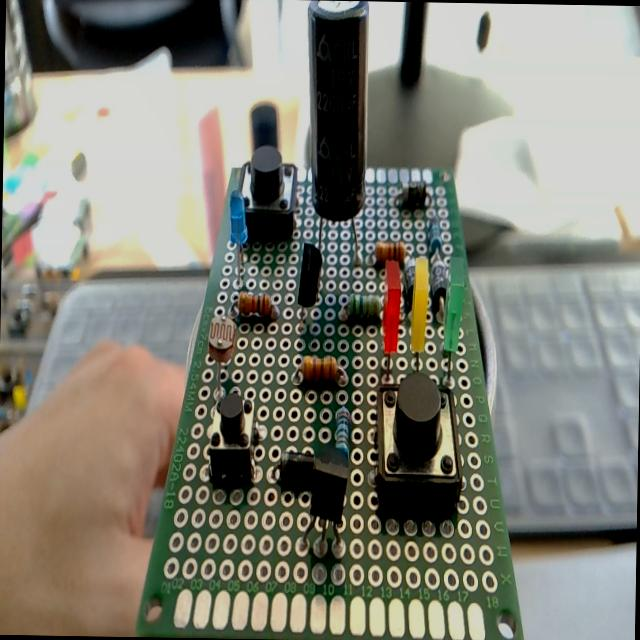Electrolytic capacitor: (298, 0, 374, 266)
cds: (208, 312, 238, 398)
diode: (268, 446, 314, 494)
led: (438, 257, 466, 387), (379, 256, 403, 388), (408, 256, 429, 382), (226, 190, 252, 288)
resistor: (287, 349, 349, 396), (338, 288, 384, 327), (228, 290, 280, 324), (333, 395, 354, 461), (371, 235, 410, 267)
switch: (365, 366, 470, 519), (198, 385, 260, 491), (235, 145, 297, 243)
transistor: (302, 440, 352, 559), (288, 238, 326, 334)
